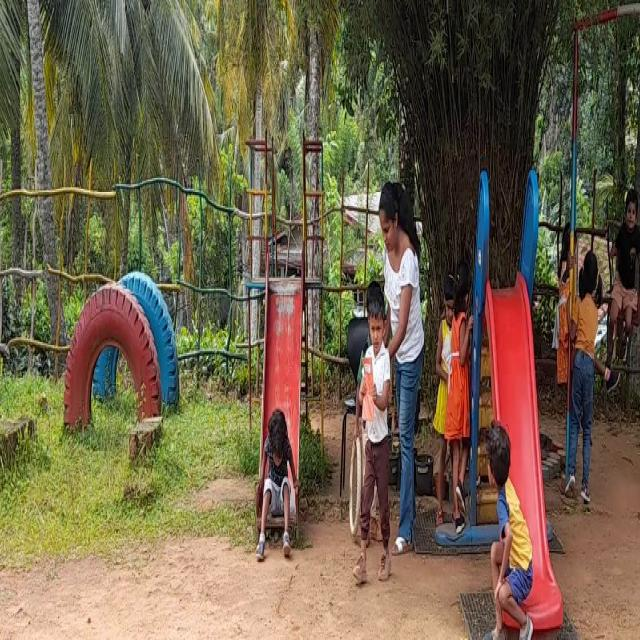adult: (380, 178, 426, 540)
child: (483, 402, 540, 640), (240, 366, 301, 574), (355, 303, 393, 582), (613, 146, 640, 385), (452, 256, 472, 528), (575, 242, 592, 524)
